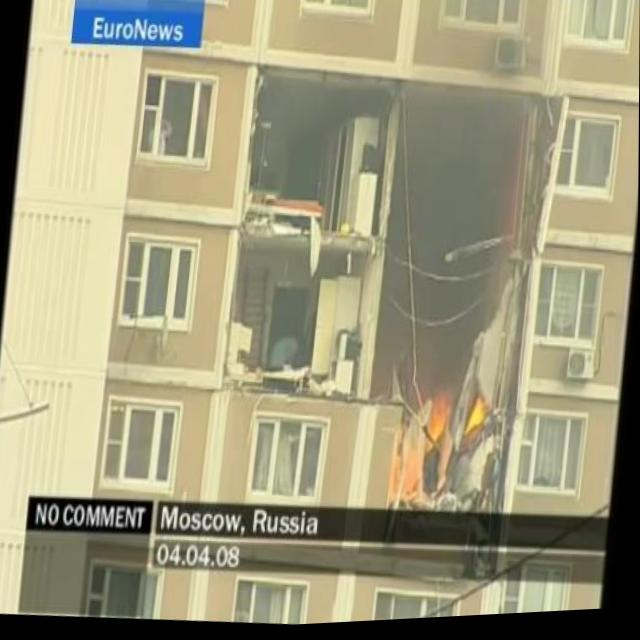fire: (420, 386, 458, 462), (467, 395, 491, 446)
